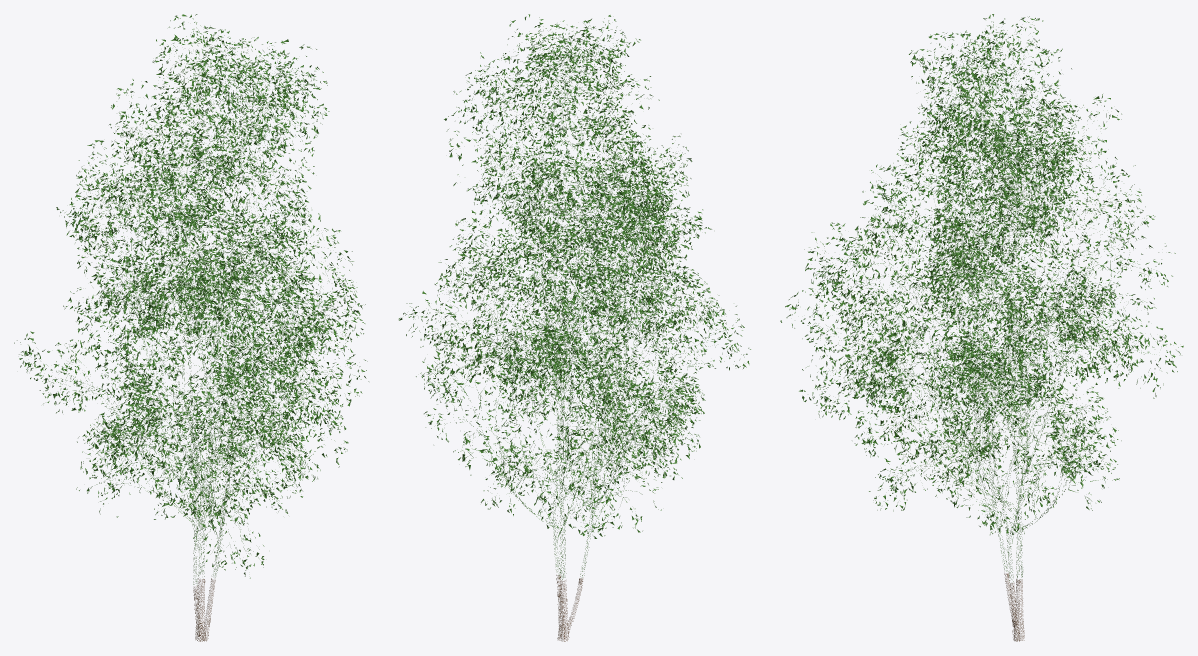
Rendered from acer.glb.
3 views of the same model, side by side, from view 1: azimuth 30°, elevation 25°; view 2: azimuth 150°, elevation 25°; view 3: azimuth 270°, elevation 25° (orthographic). The views are drawn at different scales.
Parts seen in each view (by area): view 1: canopy, trunk; view 2: canopy, trunk; view 3: canopy, trunk.
Boxes of the visible parts, <box> form: canopy: <box>14,14,368,584</box>; trunk: <box>193,578,215,641</box>; canopy: <box>398,14,750,579</box>; trunk: <box>556,575,582,641</box>; canopy: <box>780,14,1183,581</box>; trunk: <box>1004,573,1024,641</box>.
Size of the model in its own units: 0.4982 by 0.9986 by 0.5907.
